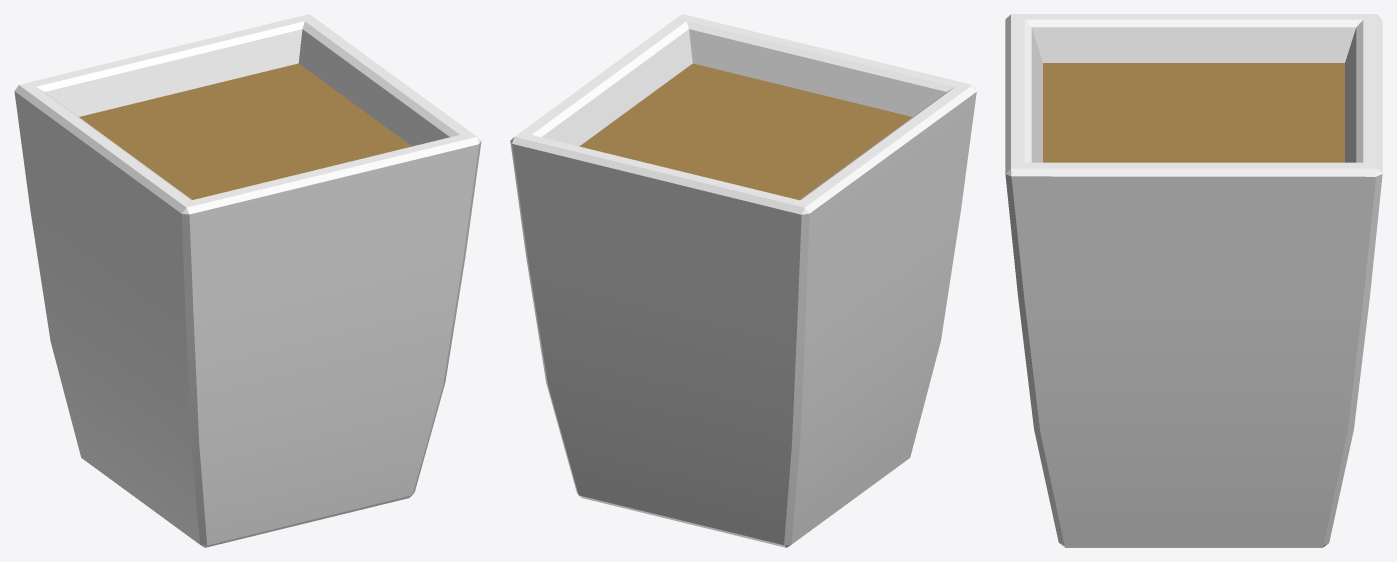
The model's file is Flower_Pot.fbx.
3 renders of one model, left to right at view 1: azimuth 30°, elevation 25°; view 2: azimuth 150°, elevation 25°; view 3: azimuth 270°, elevation 25°, orthographic. The views are drawn at different scales.
Parts seen in each view (by area): view 1: Flower_Pot; view 2: Flower_Pot; view 3: Flower_Pot.
Boxes of the visible parts, x1,y1,x2,y2 form: Flower_Pot: (14,14,481,547); Flower_Pot: (510,14,976,547); Flower_Pot: (1005,14,1382,547).
Size of the model in its own units: 70.68 by 83.15 by 70.68.
